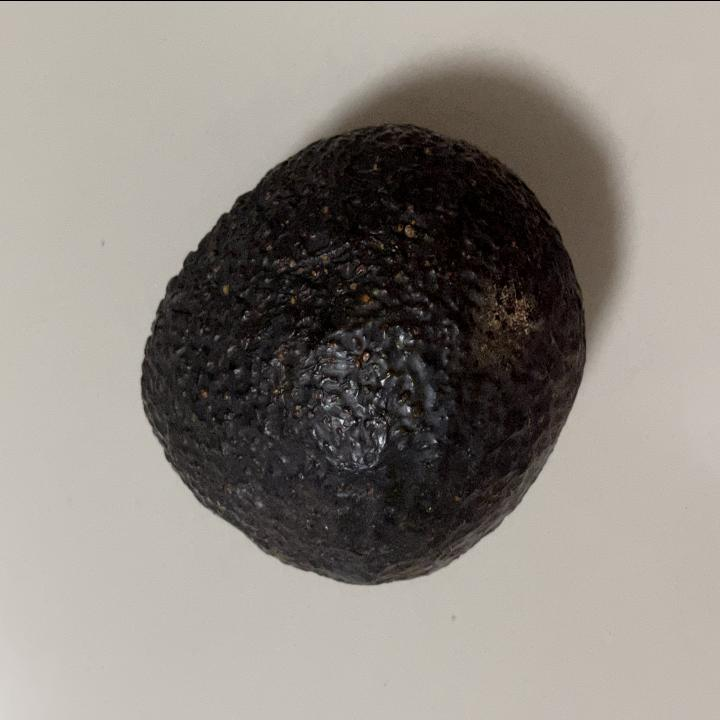Level3: (125, 112, 592, 598)
